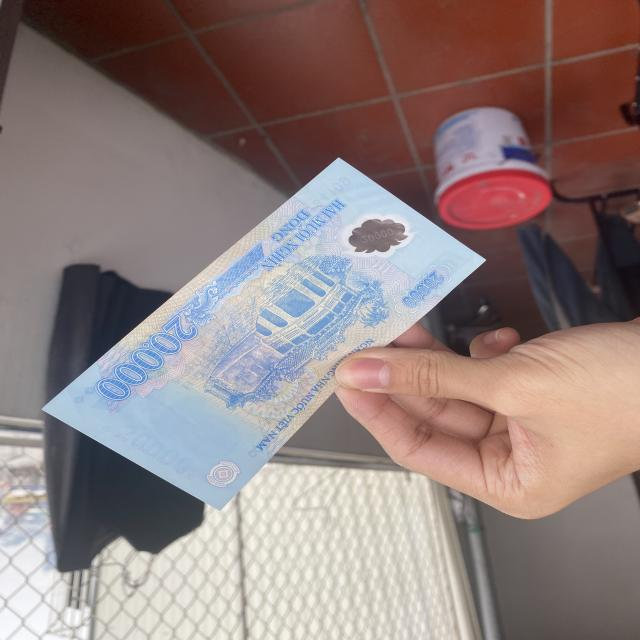20 000 VND: (41, 158, 492, 512)
